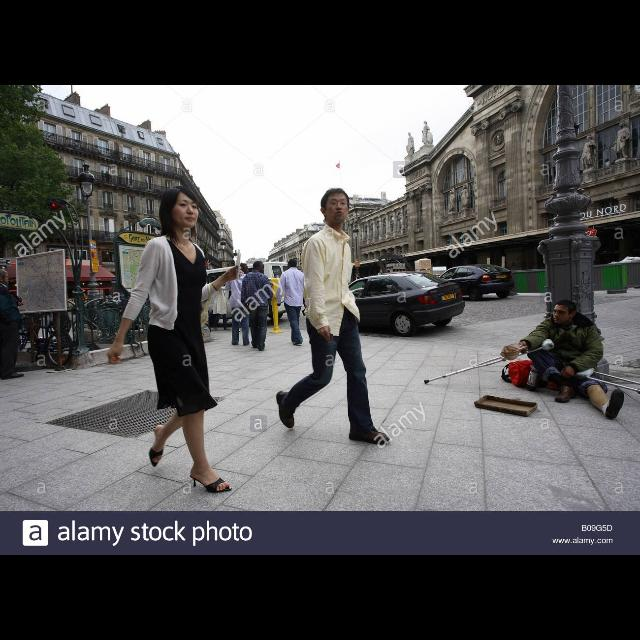head: (163, 185, 199, 229), (321, 190, 352, 224), (552, 300, 578, 326), (0, 270, 10, 286), (253, 262, 265, 274), (238, 263, 250, 275), (287, 260, 297, 270), (218, 276, 225, 284)
person: (104, 185, 248, 497), (273, 186, 393, 448), (499, 298, 627, 422), (240, 261, 276, 353), (276, 258, 310, 348), (0, 268, 26, 382), (224, 262, 256, 348), (211, 275, 233, 333)
